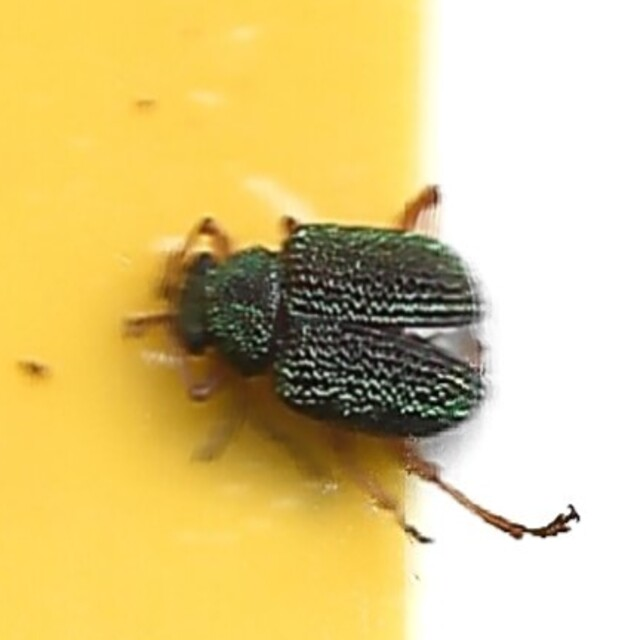Coleoptera: (148, 186, 492, 454)
